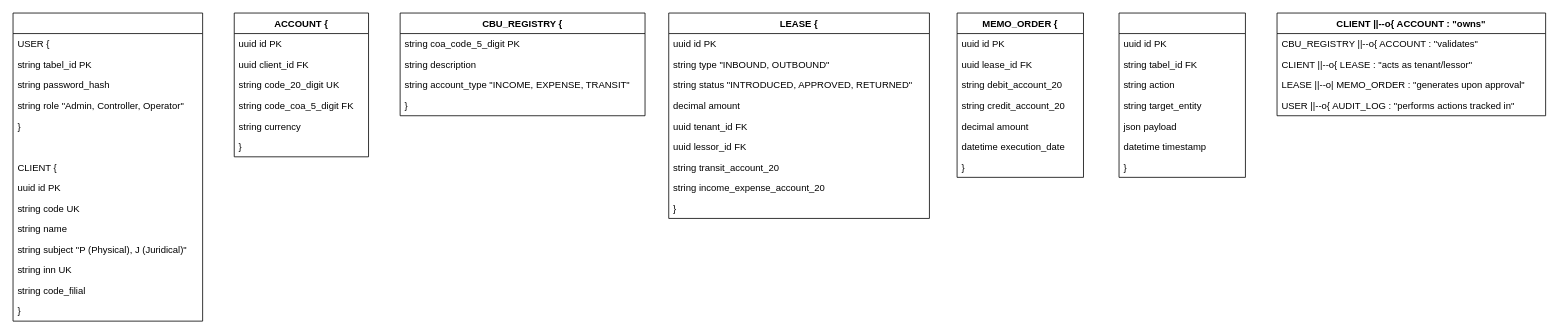
This 1559x334 diagram has some shape labels left out. Each missing label, with the box of its shape:
AUDIT_LOG {: (1118, 12, 1245, 177)
erDiagram: (12, 12, 203, 321)
